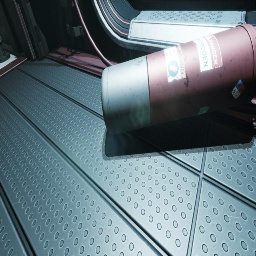NitrogenTank ,: (101, 24, 256, 135)
